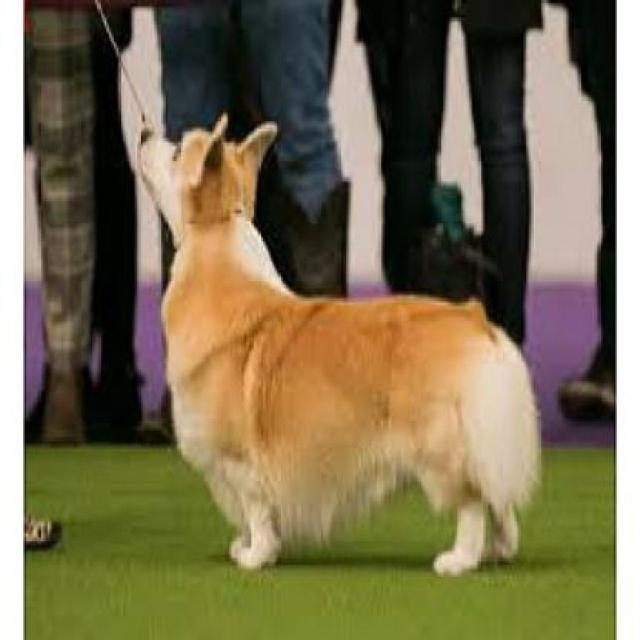Dog: (132, 112, 545, 580)
